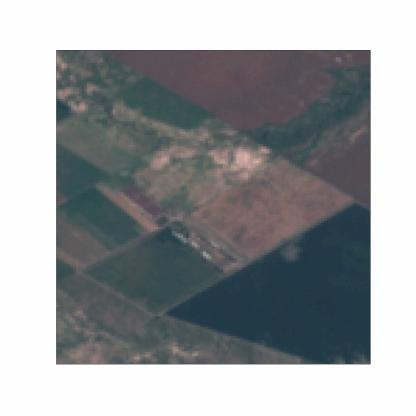silobolsa: (170, 230, 188, 244)
